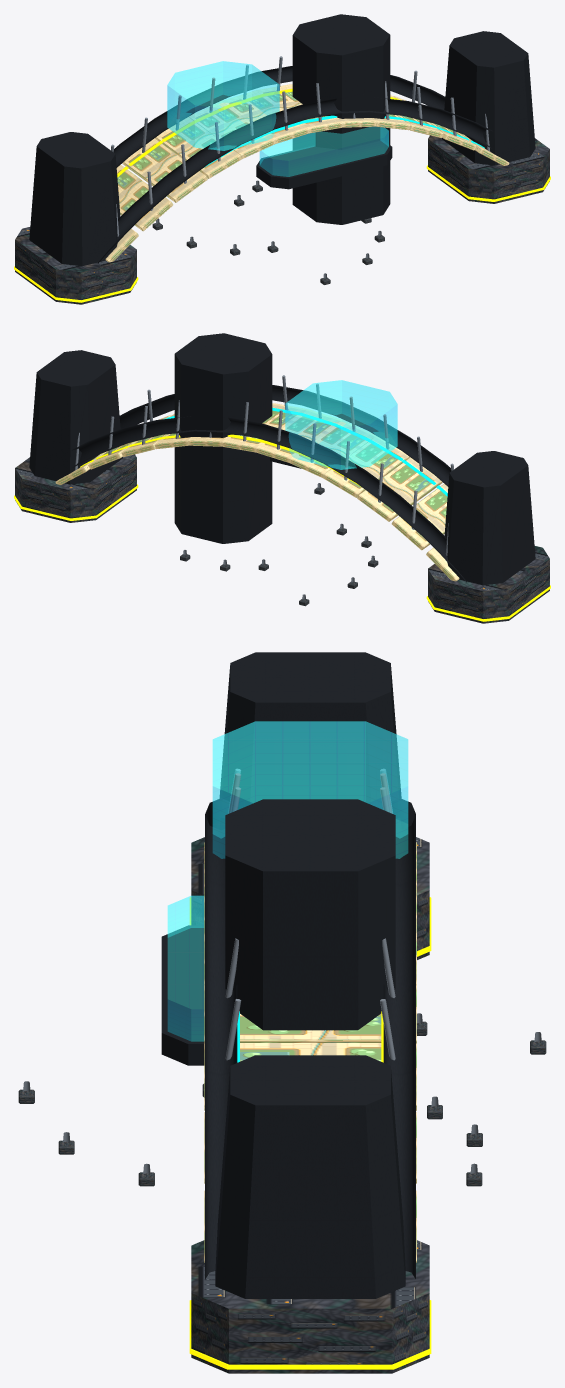
File: interior_setpiece_01_r1_05.glb
The picture shows the model from 3 angles, top to bottom: view 1: azimuth 30°, elevation 25°; view 2: azimuth 150°, elevation 25°; view 3: azimuth 270°, elevation 25°; orthographic projection. The views are drawn at different scales.
Parts seen in each view (by area): view 1: Setpiece01_C05_gunmetal, Setpiece01_C05_glass_cyan, Setpiece01_C05_promenade_paving, Setpiece01_C05_cliff_basalt, Setpiece01_C05_steel_machined, Setpiece01_C05_led_amber, Setpiece01_C05_led_cyan; view 2: Setpiece01_C05_gunmetal, Setpiece01_C05_promenade_paving, Setpiece01_C05_cliff_basalt, Setpiece01_C05_glass_cyan, Setpiece01_C05_steel_machined, Setpiece01_C05_led_amber, Setpiece01_C05_led_cyan; view 3: Setpiece01_C05_gunmetal, Setpiece01_C05_cliff_basalt, Setpiece01_C05_glass_cyan, Setpiece01_C05_promenade_paving, Setpiece01_C05_steel_machined, Setpiece01_C05_led_amber.
Boxes of the visible parts, bbox=[...] form: Setpiece01_C05_gunmetal: bbox=[29, 14, 546, 266]; Setpiece01_C05_glass_cyan: bbox=[167, 61, 388, 176]; Setpiece01_C05_promenade_paving: bbox=[105, 84, 509, 262]; Setpiece01_C05_cliff_basalt: bbox=[15, 135, 549, 304]; Setpiece01_C05_steel_machined: bbox=[111, 56, 490, 278]; Setpiece01_C05_led_amber: bbox=[14, 88, 550, 302]; Setpiece01_C05_led_cyan: bbox=[204, 115, 484, 167]; Setpiece01_C05_gunmetal: bbox=[18, 333, 535, 585]; Setpiece01_C05_promenade_paving: bbox=[55, 403, 459, 581]; Setpiece01_C05_cliff_basalt: bbox=[15, 454, 549, 623]; Setpiece01_C05_glass_cyan: bbox=[285, 380, 397, 469]; Setpiece01_C05_steel_machined: bbox=[74, 375, 453, 599]; Setpiece01_C05_led_amber: bbox=[14, 434, 550, 621]; Setpiece01_C05_led_cyan: bbox=[163, 407, 447, 496]; Setpiece01_C05_gunmetal: bbox=[161, 652, 415, 1298]; Setpiece01_C05_cliff_basalt: bbox=[18, 837, 546, 1373]; Setpiece01_C05_glass_cyan: bbox=[167, 721, 408, 1041]; Setpiece01_C05_promenade_paving: bbox=[204, 842, 416, 1262]; Setpiece01_C05_steel_machined: bbox=[23, 769, 541, 1174]; Setpiece01_C05_led_amber: bbox=[189, 897, 431, 1369].
Size of the model in its own units: 67.2 by 23 by 30.99.
Materials: 7 (7 with a texture image).
